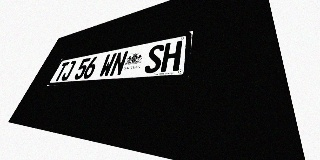5: (73, 58, 91, 80)
6: (82, 56, 100, 79)
H: (160, 40, 183, 72)
J: (60, 60, 77, 81)
N: (109, 50, 129, 77)
S: (143, 43, 165, 74)
T: (53, 62, 70, 81)
W: (98, 53, 117, 78)
